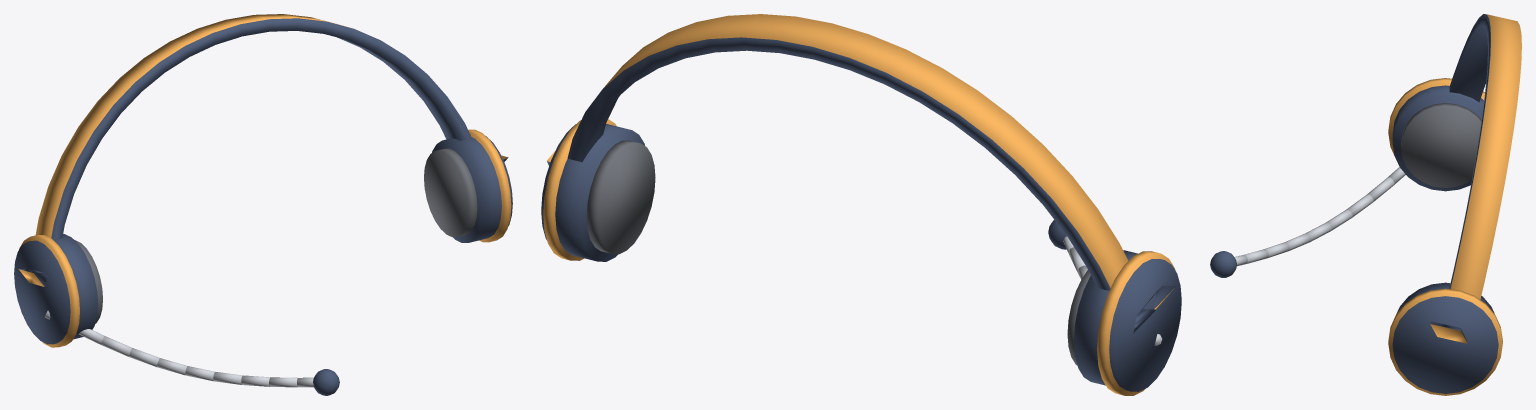
Rendered from pilot_headset.glb.
The picture shows the model from 3 angles, left to right: view 1: azimuth 30°, elevation 25°; view 2: azimuth 150°, elevation 25°; view 3: azimuth 270°, elevation 25°; orthographic projection. The views are drawn at different scales.
Parts seen in each view (by area): view 1: HERO_PilotHeadset; view 2: HERO_PilotHeadset; view 3: HERO_PilotHeadset.
Boxes of the visible parts, <box> form: HERO_PilotHeadset: <box>14,14,512,395</box>; HERO_PilotHeadset: <box>541,14,1181,395</box>; HERO_PilotHeadset: <box>1210,14,1521,395</box>.
Size of the model in its own units: 1.29 by 0.681 by 0.7358.
